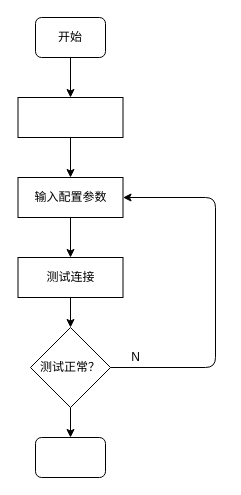
This 241x495 diagram has some shape labels left out. The shapes that lost their labels are listed below. From the top down, each one's centre as x and y in pixels, then its label:
the point at 70,117: 登录界面
the point at 70,457: 结束
